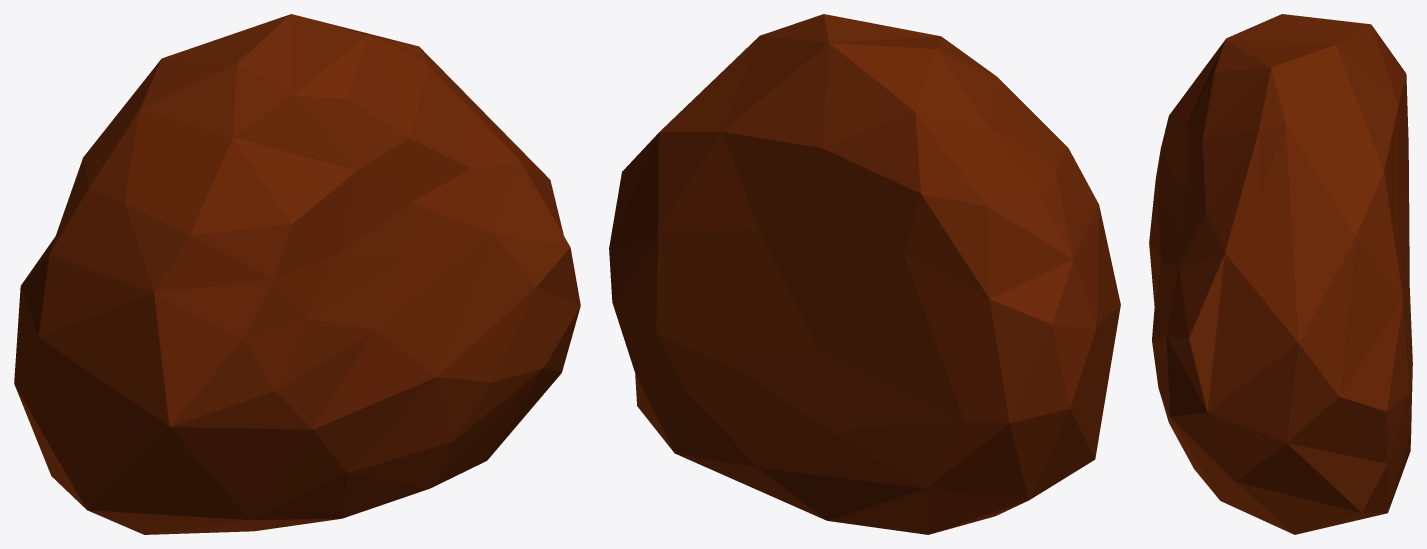
Rendered from 64-24.23b-area 24.23b of cortex-('0.4980', '0.1686', '0.0000').obj.
3 views of the same model, side by side, from view 1: azimuth 30°, elevation 25°; view 2: azimuth 150°, elevation 25°; view 3: azimuth 270°, elevation 25° (orthographic). The views are drawn at different scales.
Bounding box in the file's own units: 23.9 × 21.97 × 11.76.
